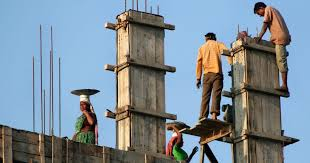arm: (193, 45, 204, 88)
face: (253, 4, 265, 15)
glove: (238, 30, 249, 43), (193, 75, 202, 88)
human: (248, 1, 291, 95), (193, 28, 231, 120)
leg: (209, 73, 223, 119), (198, 72, 210, 117)
nohelmet: (251, 0, 267, 14)
novest: (262, 7, 288, 45)
vest: (263, 7, 288, 45), (197, 39, 223, 74)
